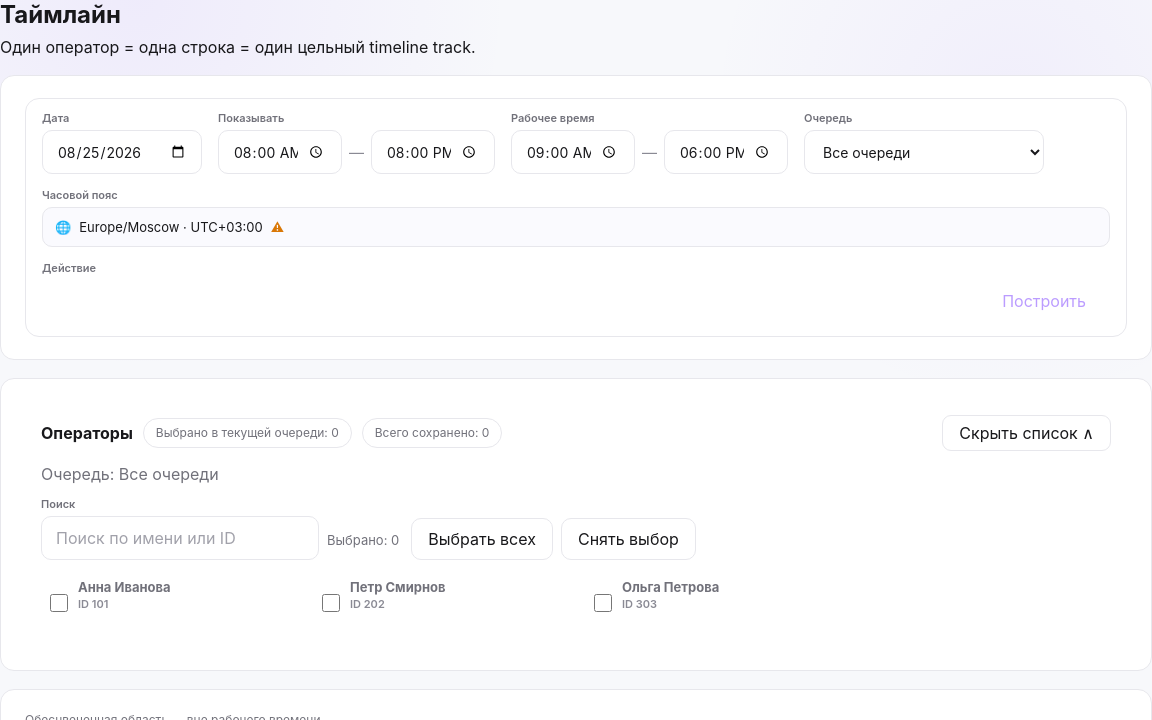
Test: TimelinePage component behavior › shows global no-data empty state when all selected operators have no data
The width and height of the screenshot is (1152, 720).
Check: the text "Анна Иванова" is shown, box [78, 579, 170, 595]
Click the button "Выбрать всех": (482,539) [411, 518, 553, 560]
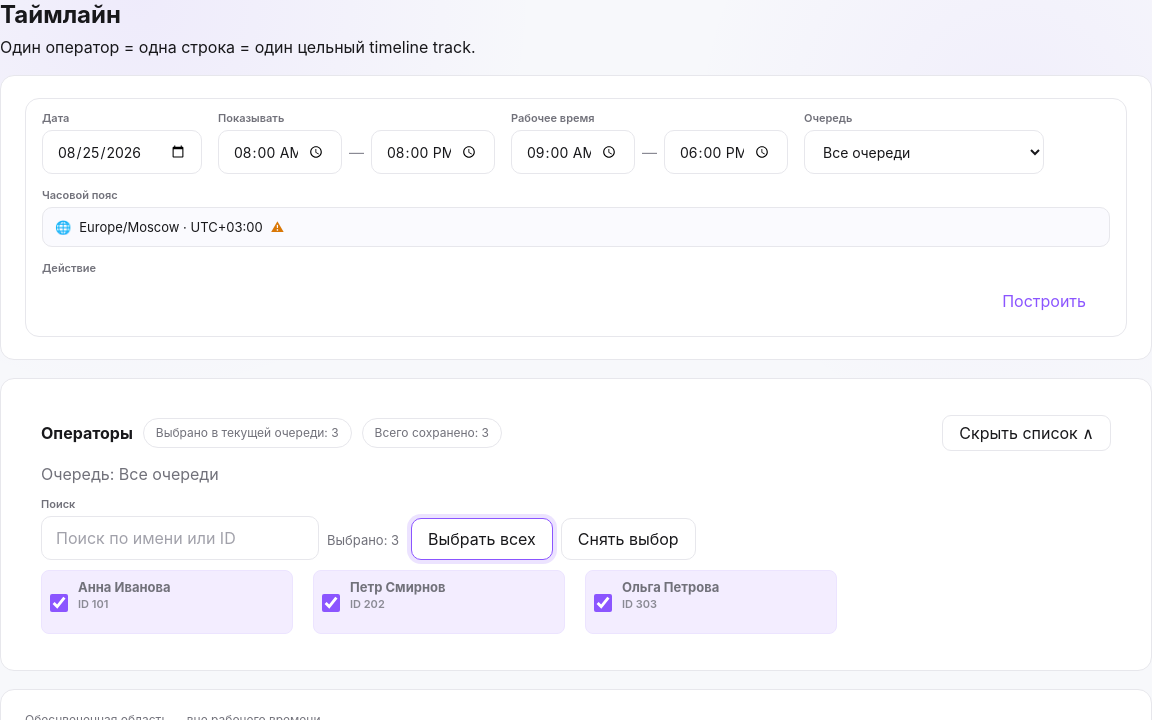
Click the button "Построить": (1044,301) [978, 280, 1110, 322]
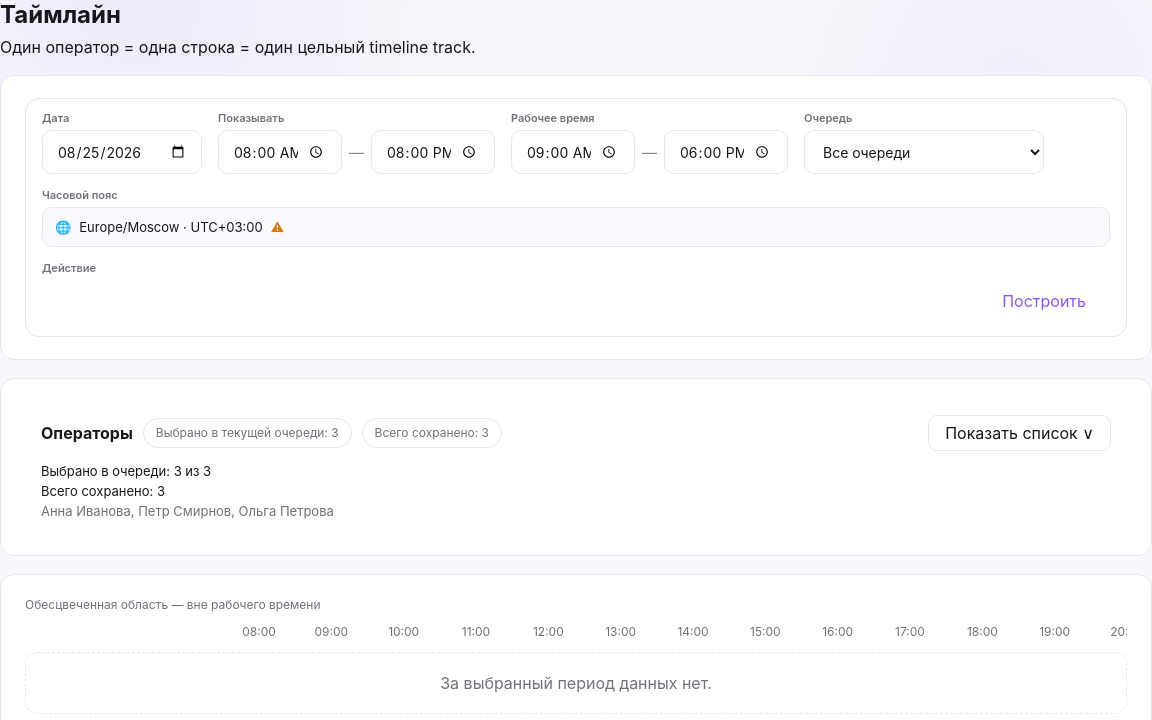
Check: the text "За выбранный период данных нет." is shown, box [25, 652, 1127, 714]
